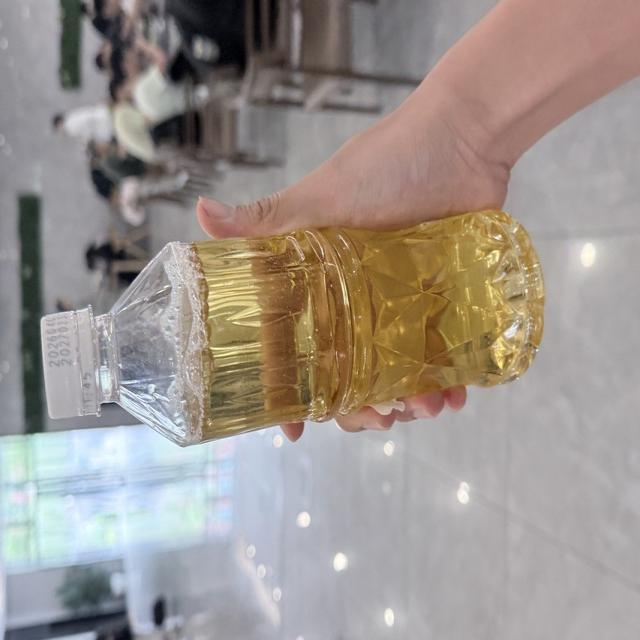high: (42, 210, 544, 445)
